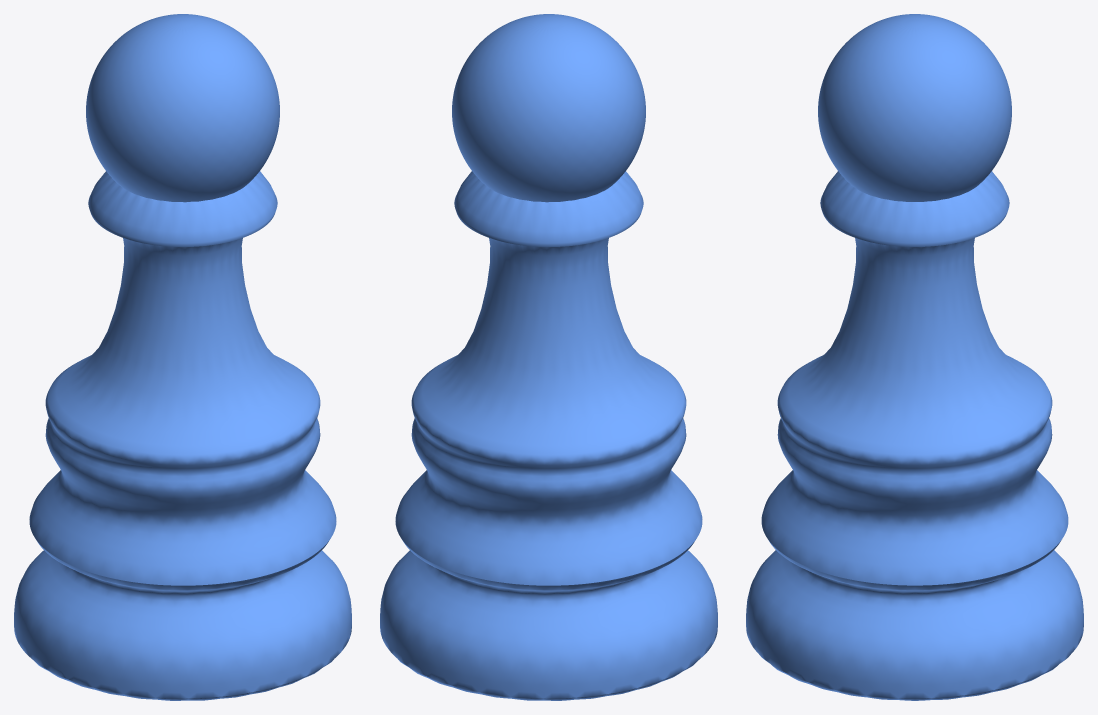
File: blue_pawn.glb
3 renders of one model, left to right at view 1: azimuth 30°, elevation 25°; view 2: azimuth 150°, elevation 25°; view 3: azimuth 270°, elevation 25°, orthographic.
Parts seen in each view (by area): view 1: Object_2; view 2: Object_2; view 3: Object_2.
Part boxes in pixels (left/top/right/bottom): Object_2: left=14, top=14, right=351, bottom=700; Object_2: left=380, top=14, right=717, bottom=700; Object_2: left=746, top=14, right=1083, bottom=700.
Bounding box in the file's own units: 0.7867 × 1.58 × 0.7867.
